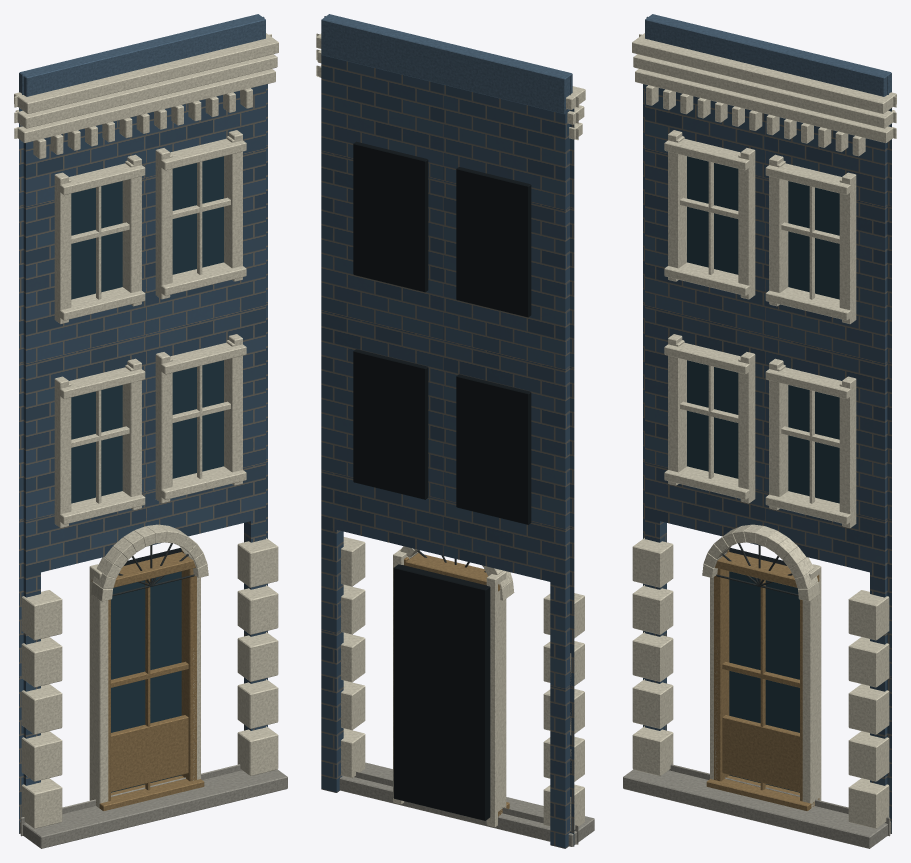
File: OFFC12_lod1.glb
3 renders of one model, left to right at view 1: azimuth 30°, elevation 25°; view 2: azimuth 150°, elevation 25°; view 3: azimuth 330°, elevation 25°, orthographic.
Visible parts, largest first — view 1: OFFC12_FRONT_LOD1; view 2: OFFC12_FRONT_LOD1; view 3: OFFC12_FRONT_LOD1.
Part boxes in pixels (box(x1,y1,x2,y2)): OFFC12_FRONT_LOD1: box(14, 14, 287, 848); OFFC12_FRONT_LOD1: box(316, 14, 594, 848); OFFC12_FRONT_LOD1: box(623, 14, 896, 848).
Bounding box in the file's own units: 3.44 × 9.66 × 0.68.
9 materials, 7 textured.
